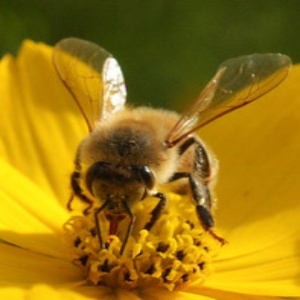bee: (52, 36, 291, 254)
